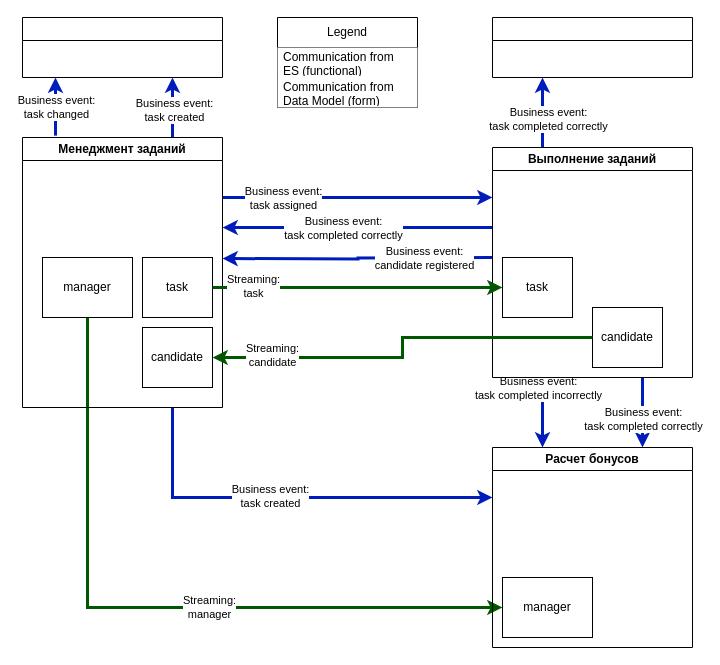
Some shapes in this 720 by 665 pixel diagram are drawn without their labels. The centre of each missing label's shape, as x and y in pixels:
Cистема О и И из уроков: point (592, 47)
Сервис для продажи заданий: point (122, 47)
